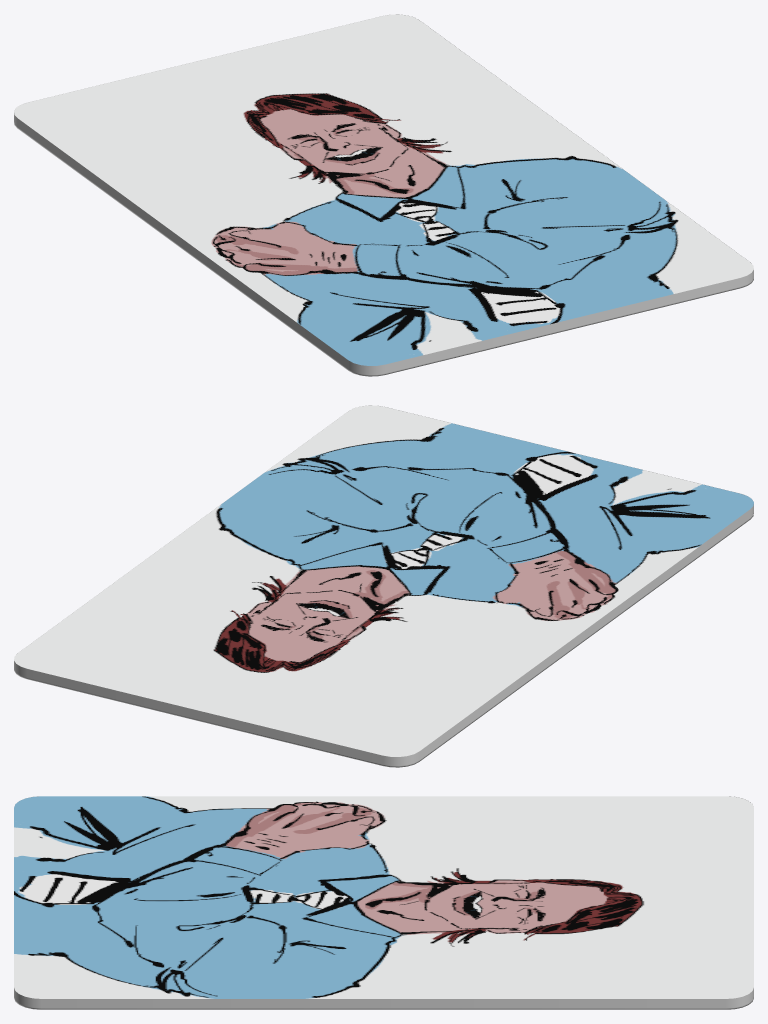
The model's file is ModelCard2.fbx.
3 renders of one model, top to bottom at view 1: azimuth 30°, elevation 25°; view 2: azimuth 150°, elevation 25°; view 3: azimuth 270°, elevation 25°, orthographic. The views are drawn at different scales.
Visible parts, largest first — view 1: UpCard, DownCard; view 2: UpCard, DownCard; view 3: UpCard, DownCard.
Boxes of the visible parts, x1,y1,x2,y2 form: UpCard: (14, 14, 753, 365); DownCard: (14, 14, 753, 376); UpCard: (14, 405, 753, 756); DownCard: (14, 405, 753, 767); UpCard: (14, 796, 753, 998); DownCard: (14, 796, 753, 1009).
Bounding box in the file's own units: 64.84 × 1.62 × 100.
